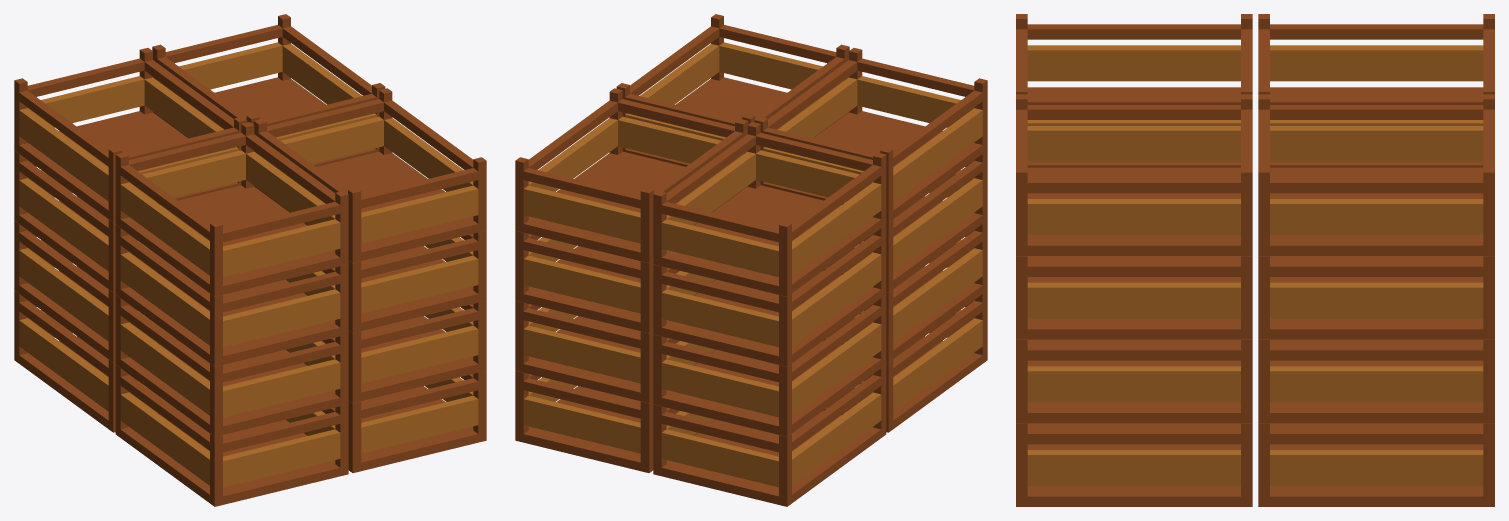
File: caseobstacle.fbx
3 renders of one model, left to right at view 1: azimuth 30°, elevation 25°; view 2: azimuth 150°, elevation 25°; view 3: azimuth 270°, elevation 25°, orthographic. The views are drawn at different scales.
Visible parts, largest first — view 1: caseobstacle; view 2: caseobstacle; view 3: caseobstacle.
Part boxes in pixels (left/top/right/bottom): caseobstacle: left=14, top=14, right=486, bottom=506; caseobstacle: left=515, top=14, right=987, bottom=506; caseobstacle: left=1016, top=14, right=1494, bottom=506.
Size of the model in its own units: 650 by 640 by 830.
